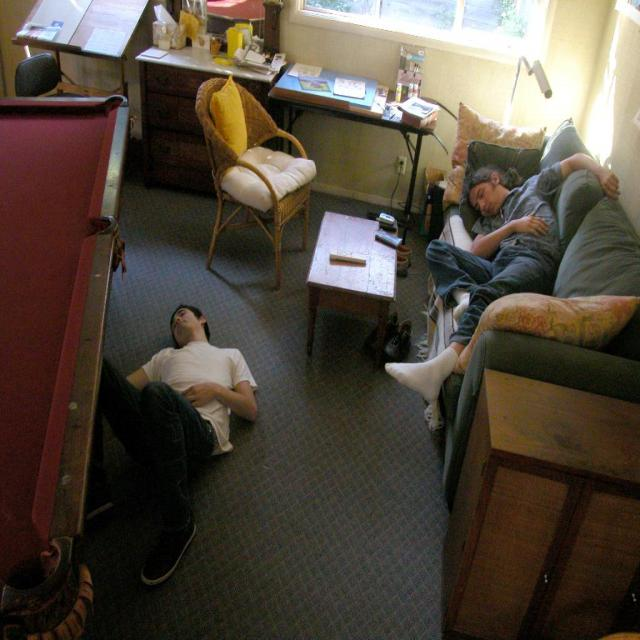chair: (196, 74, 316, 293), (14, 52, 61, 98)
desk: (270, 65, 438, 245), (136, 35, 284, 199)
person: (383, 127, 626, 435), (98, 302, 260, 586)
